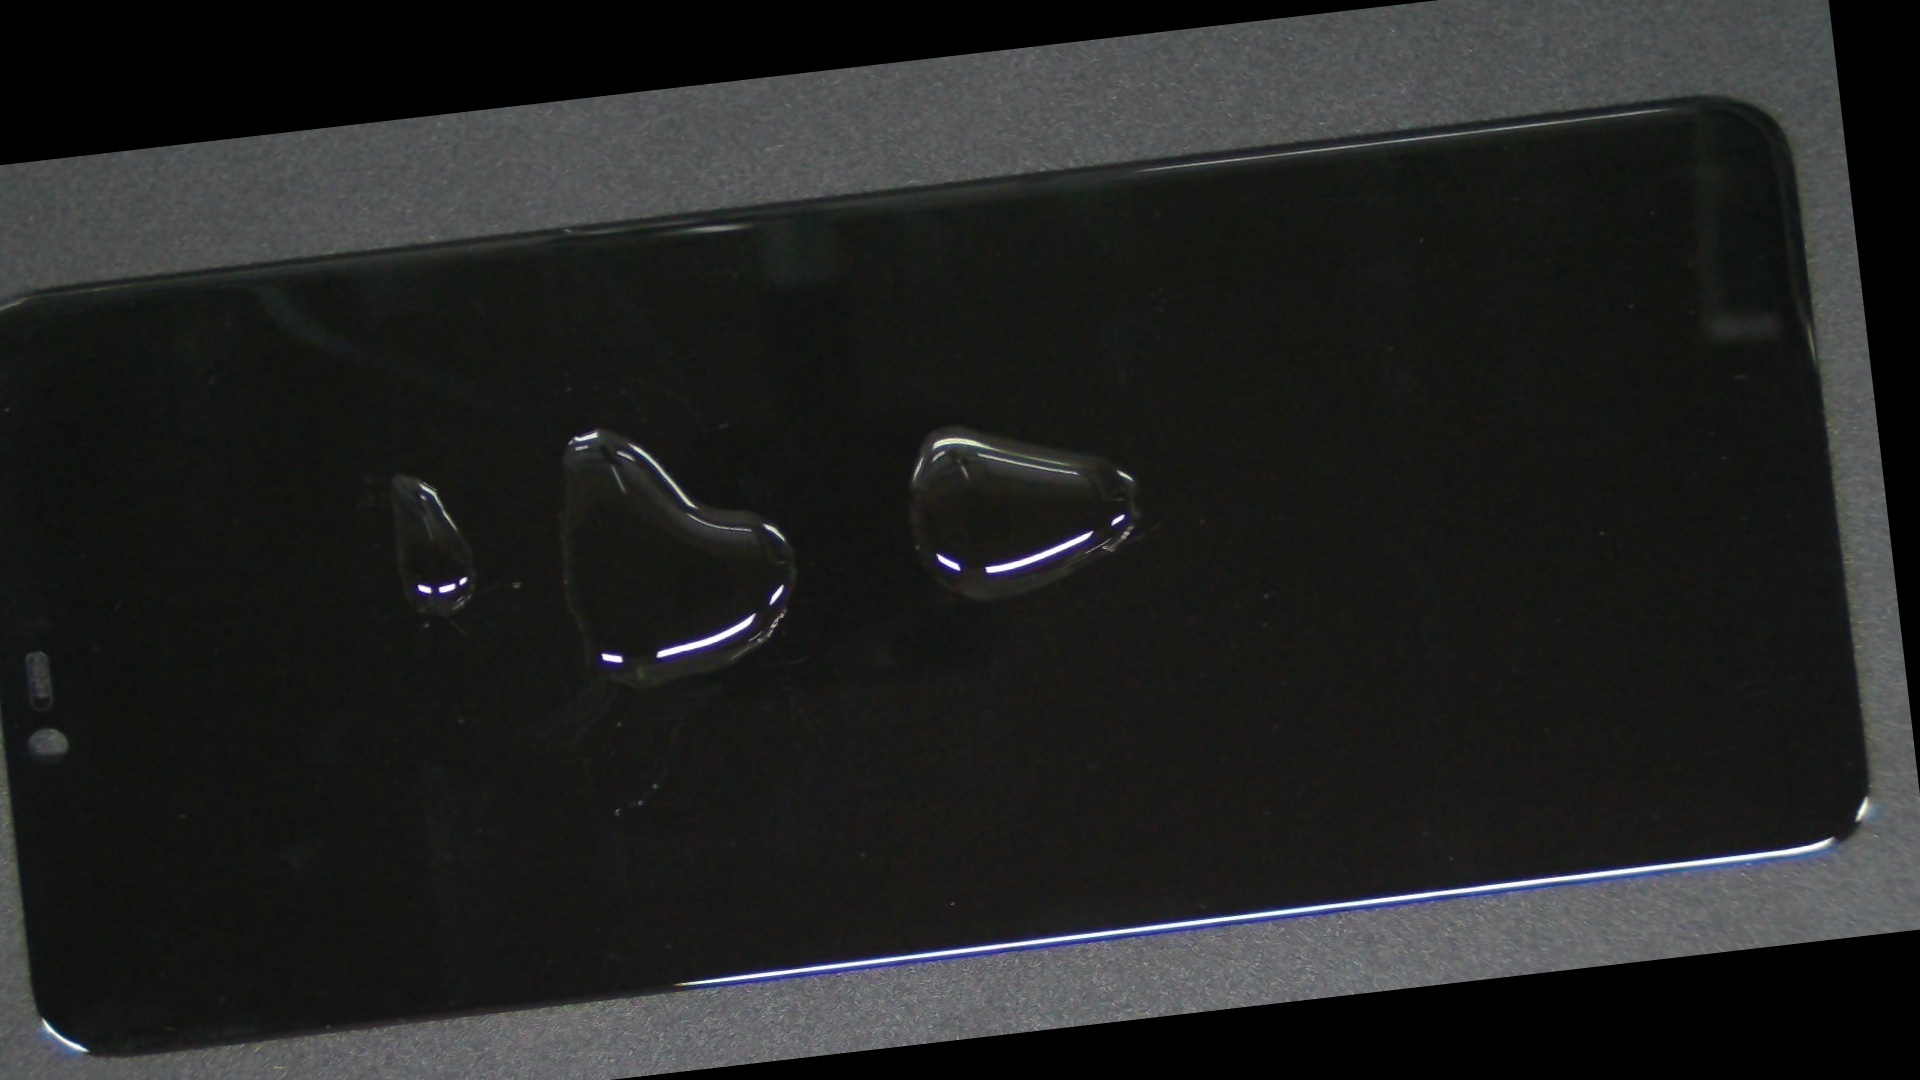oil: (400, 181, 1473, 671), (225, 223, 969, 630), (125, 269, 667, 676)
